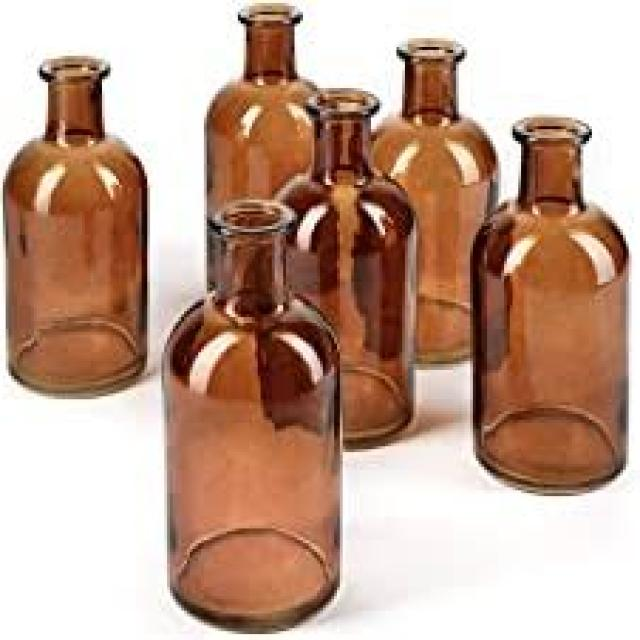glass: (159, 197, 340, 631), (470, 115, 626, 491), (272, 85, 411, 443), (3, 56, 144, 393), (363, 35, 496, 367), (201, 3, 314, 299)
